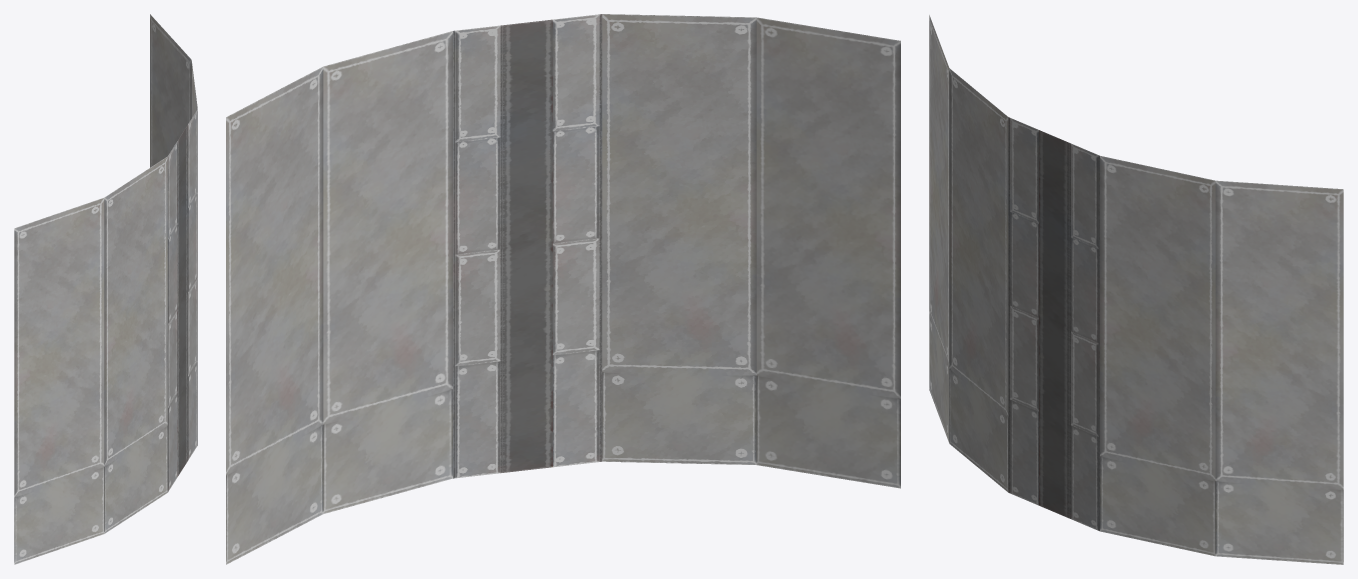
The model's file is SM_Wall_Circular_A.fbx.
3 renders of one model, left to right at view 1: azimuth 30°, elevation 25°; view 2: azimuth 150°, elevation 25°; view 3: azimuth 270°, elevation 25°, orthographic. The views are drawn at different scales.
Visible parts, largest first — view 1: SM_Wall_Circular_A; view 2: SM_Wall_Circular_A; view 3: SM_Wall_Circular_A.
Part boxes in pixels (<box>): SM_Wall_Circular_A: <box>14,14,197,564</box>; SM_Wall_Circular_A: <box>226,14,900,564</box>; SM_Wall_Circular_A: <box>929,15,1343,564</box>.
Size of the model in its own units: 200 by 200 by 200.
1 material, 1 textured.
